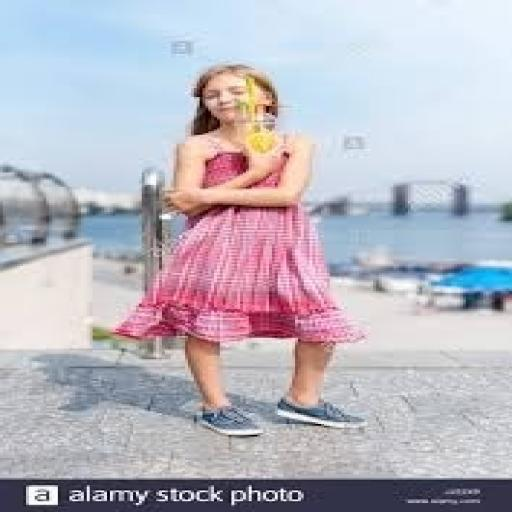drinking: (110, 61, 370, 435)
